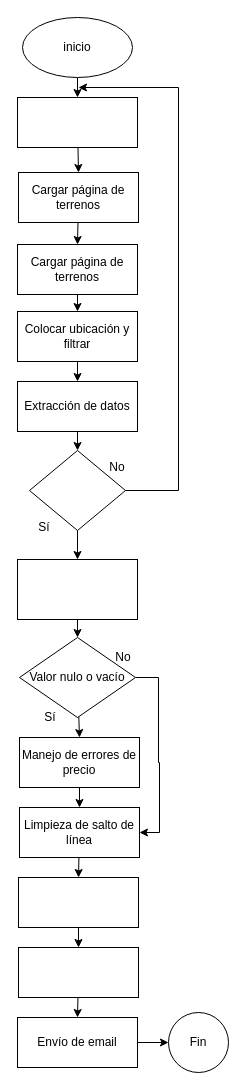
Image size: 246x1090. Some labels were removed from this diagram. Each missing label, with the box of its shape:
Abrir Browser: (16, 96, 138, 148)
Guardo en archivo xlsx: (18, 876, 138, 928)
Obtención de fila del data table: (16, 558, 138, 620)
Subida a Google Drive: (18, 946, 138, 998)
¿Extracción correcta?: (28, 450, 126, 530)
